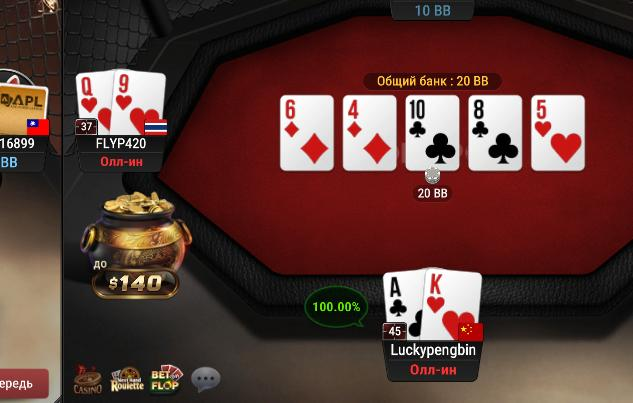10c: (407, 96, 458, 169)
4d: (343, 96, 396, 170)
5h: (532, 96, 583, 171)
6d: (281, 96, 335, 171)
8c: (469, 95, 521, 171)
9h: (112, 69, 166, 134)
Ac: (382, 272, 421, 341)
Kh: (423, 268, 481, 343)
Qh: (75, 68, 113, 138)
